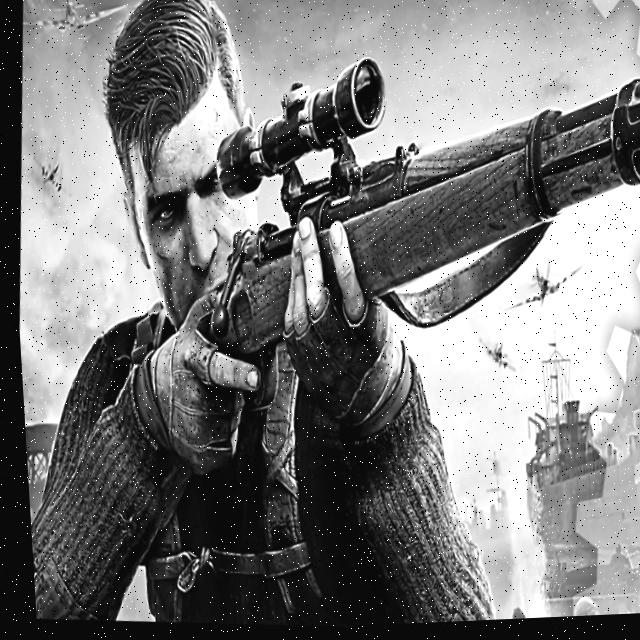firearm: (187, 39, 640, 396)
